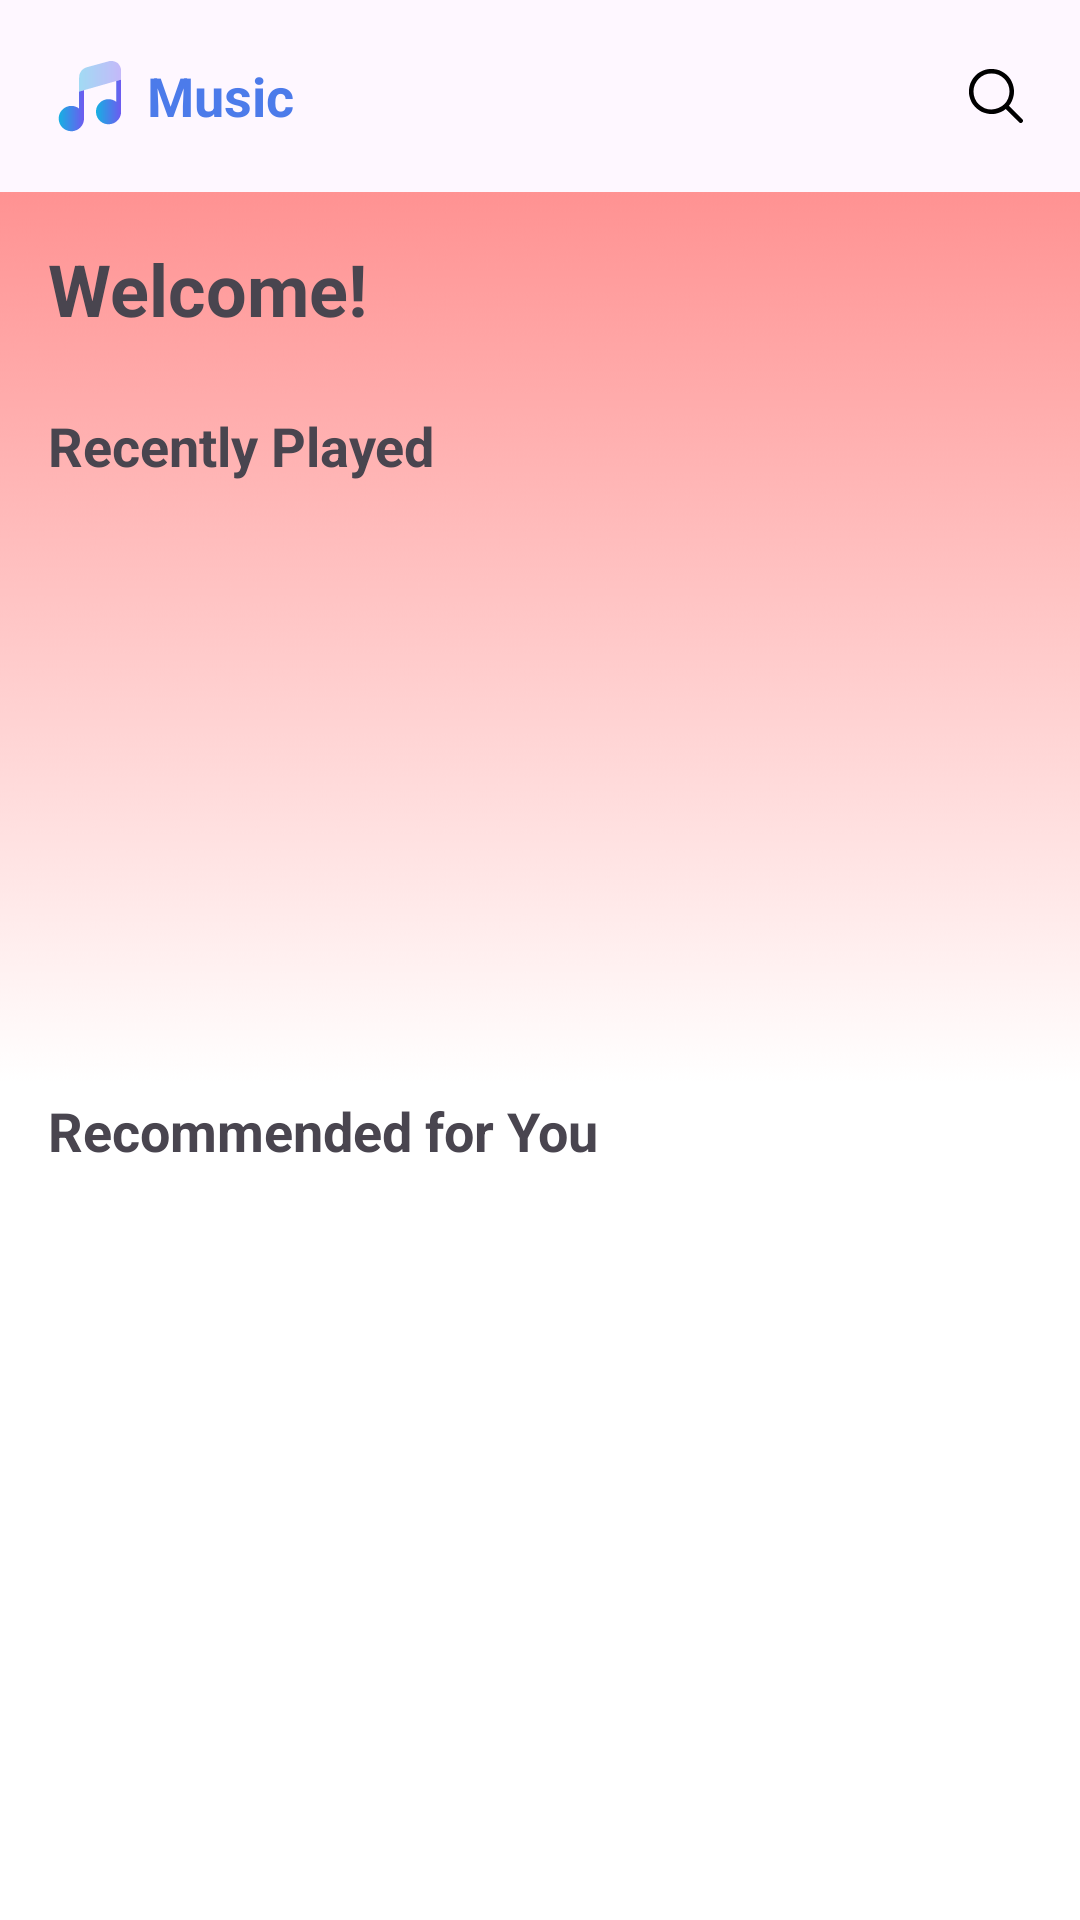

Icons on this 1080px x 1920px Android screen, each with the point to tap as (x=x, y=y):
app: (x=89, y=96)
